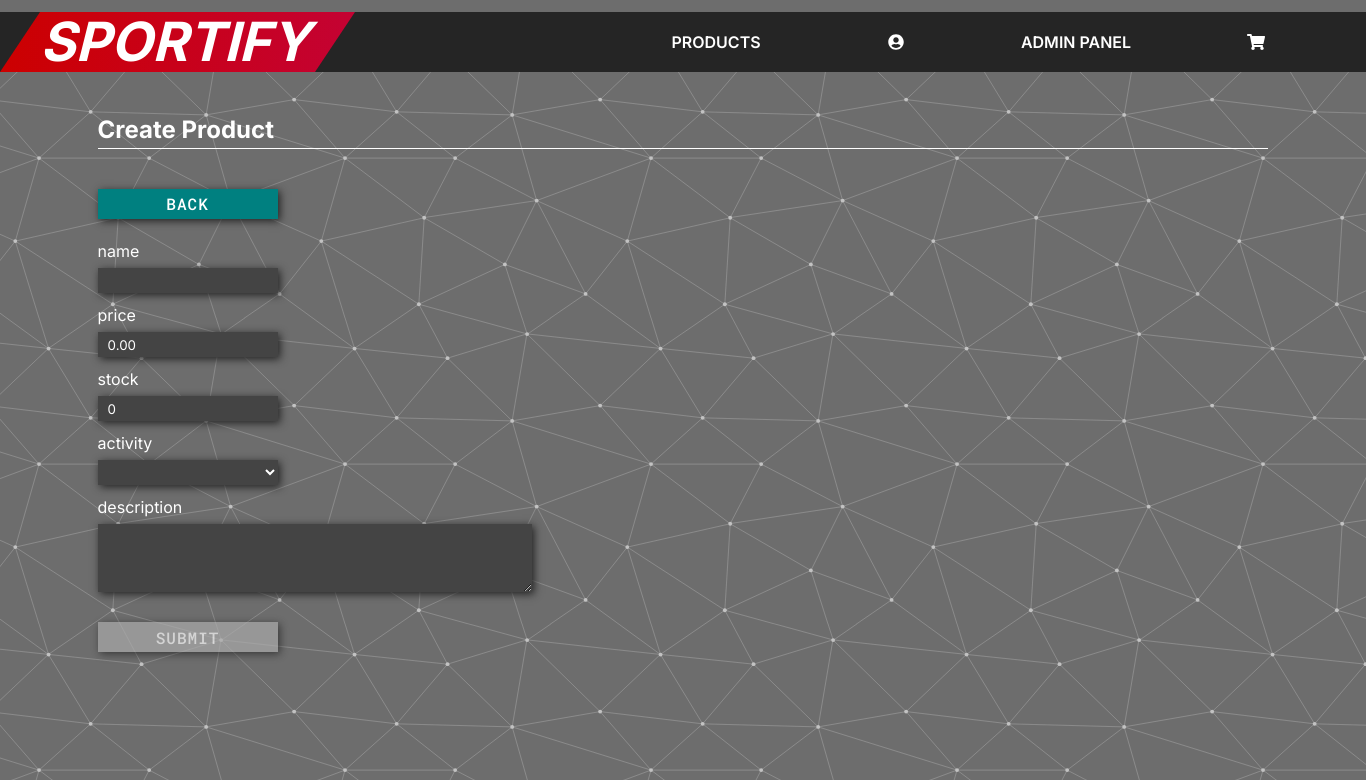
Scenario: create product form › price must be at least 0.01
This screenshot has width=1366, height=780.
Replace the text in the number field labelled "price" with "-1" at (188, 344), box [98, 332, 278, 357]
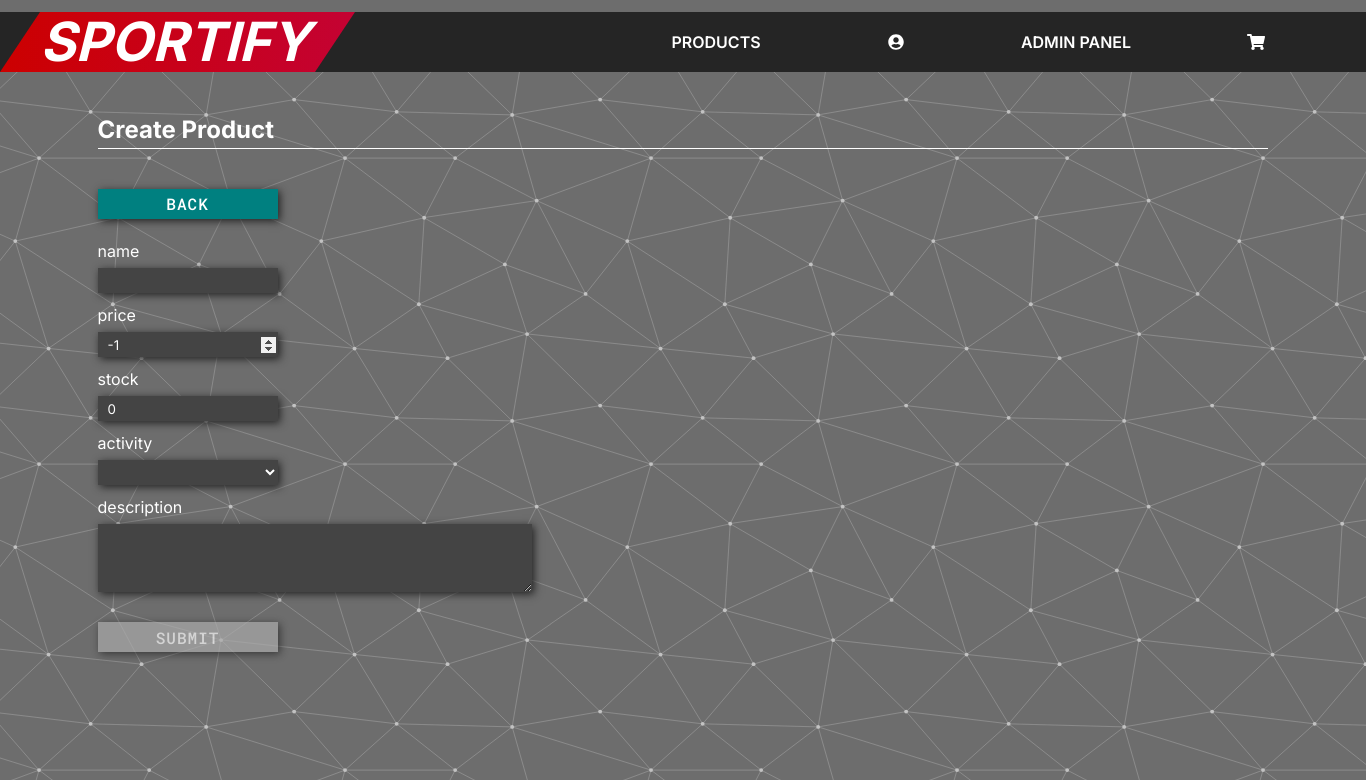
Press Tab
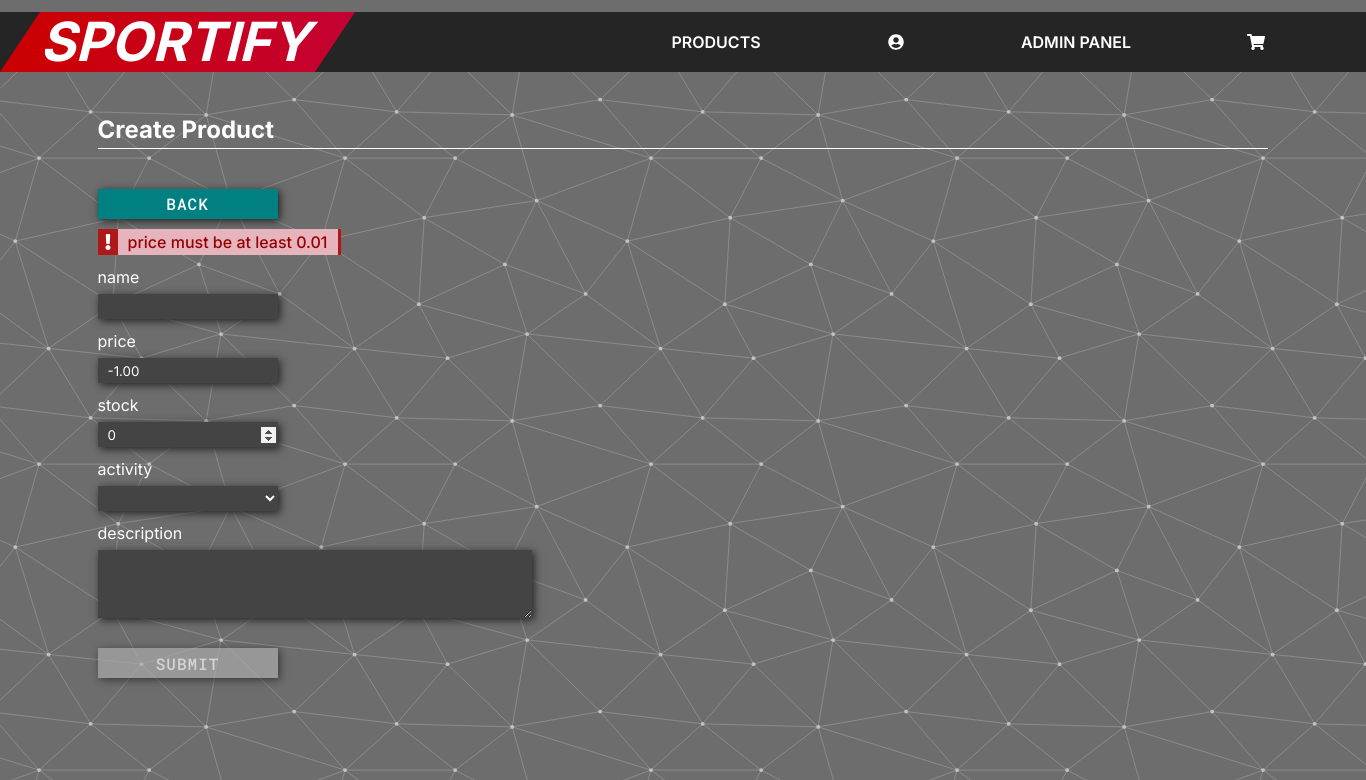
Expected: the list item "price must be at least 0.01" is shown, [118, 229, 341, 255]
